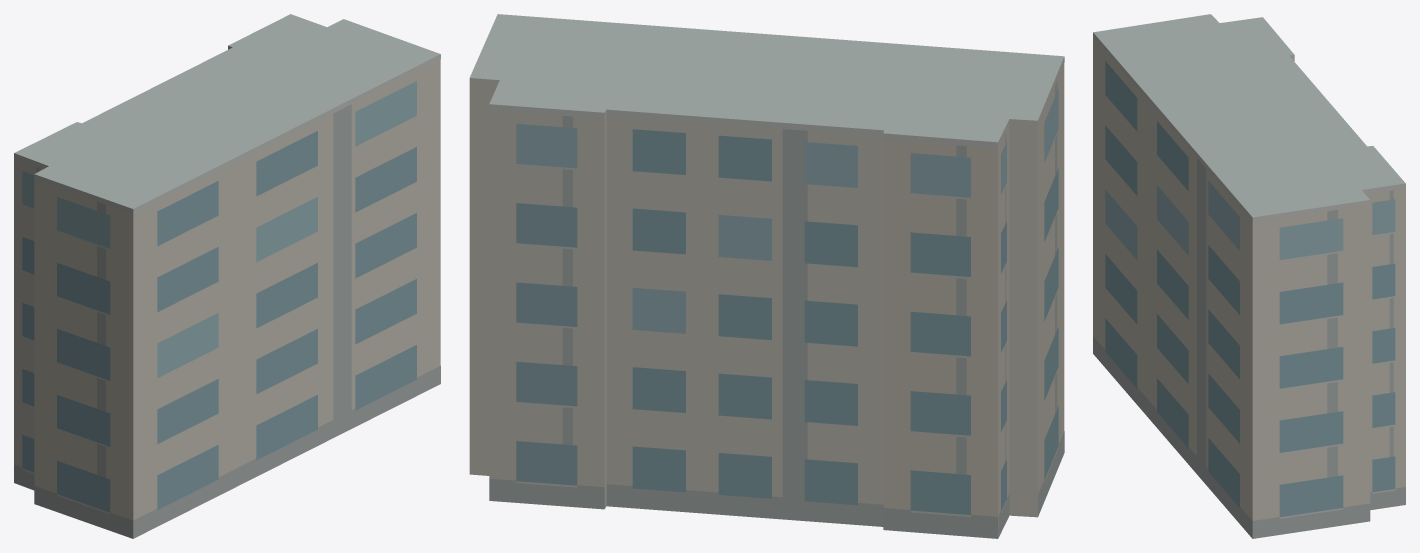
File: survey-upis-32709107.glb
The picture shows the model from 3 angles, left to right: view 1: azimuth 30°, elevation 25°; view 2: azimuth 150°, elevation 25°; view 3: azimuth 270°, elevation 25°; orthographic projection. The views are drawn at different scales.
Visible parts, largest first — view 1: survey-upis-32709107.tmp; view 2: survey-upis-32709107.tmp; view 3: survey-upis-32709107.tmp.
Part boxes in pixels (box(x1,y1,x2,y2)): survey-upis-32709107.tmp: box(14, 14, 440, 538); survey-upis-32709107.tmp: box(469, 14, 1064, 538); survey-upis-32709107.tmp: box(1093, 14, 1405, 538).
Bounding box in the file's own units: 21.05 × 15.5 × 13.68.
